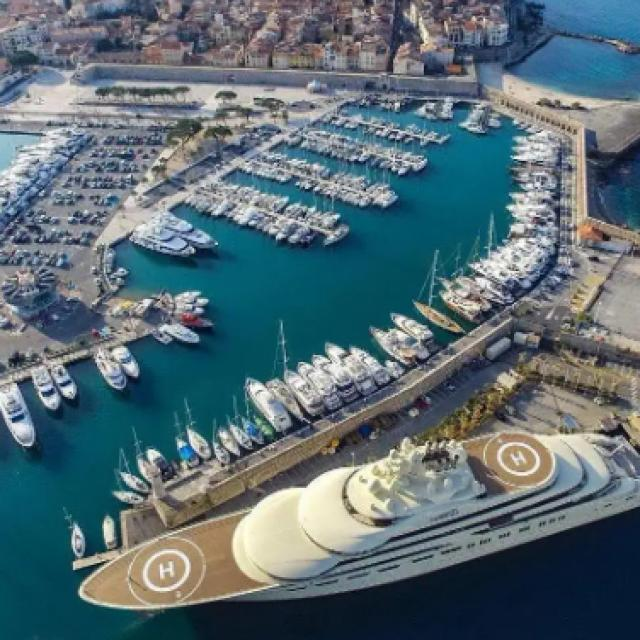houseboat: (244, 342, 388, 430), (369, 298, 466, 363), (171, 414, 259, 464), (128, 212, 216, 259), (152, 282, 212, 345), (109, 444, 173, 502), (0, 374, 36, 451), (38, 357, 78, 405), (101, 340, 139, 388), (98, 510, 119, 550), (67, 516, 85, 560)
passenger ship: (73, 425, 640, 614)
